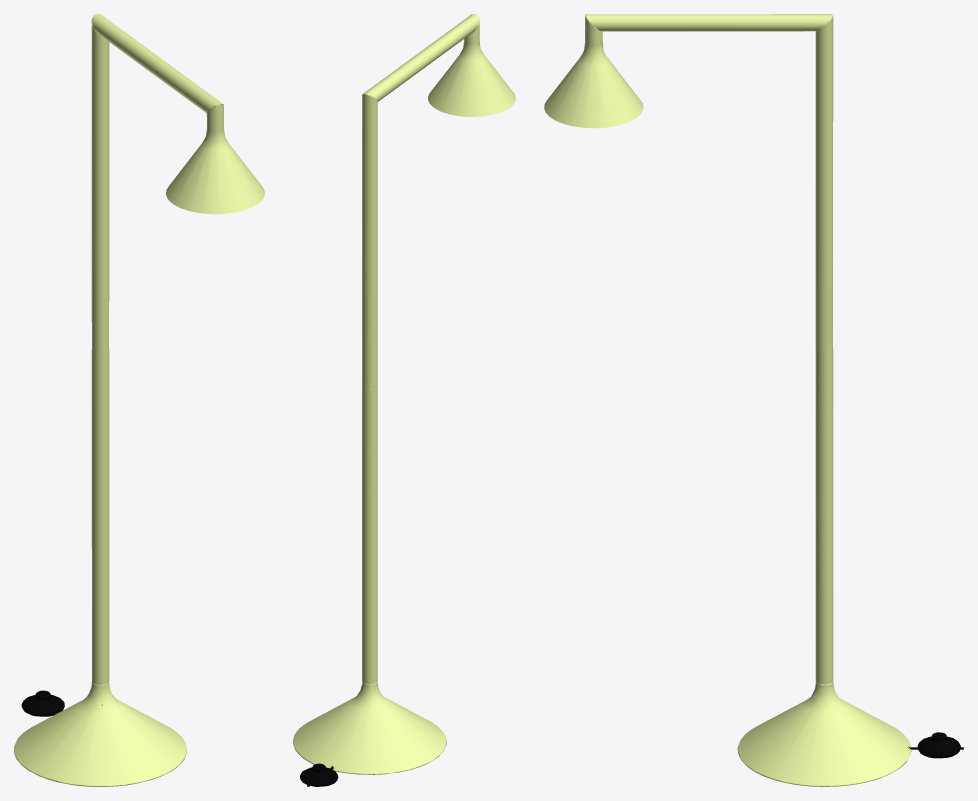
The model's file is ikea_ps_2026_lampa_podogowa_80608532.glb.
3 views of the same model, side by side, from view 1: azimuth 30°, elevation 25°; view 2: azimuth 150°, elevation 25°; view 3: azimuth 270°, elevation 25° (orthographic). The views are drawn at different scales.
Visible parts, largest first — view 1: ikea_ps_2026_lampa_podogowa_80608532; view 2: ikea_ps_2026_lampa_podogowa_80608532; view 3: ikea_ps_2026_lampa_podogowa_80608532.
Part boxes in pixels (x1,y1,x2,y2): ikea_ps_2026_lampa_podogowa_80608532: [14, 14, 264, 786]; ikea_ps_2026_lampa_podogowa_80608532: [293, 14, 515, 786]; ikea_ps_2026_lampa_podogowa_80608532: [544, 14, 963, 786].
Bounding box in the file's own units: 0.2799 × 1.31 × 0.6768.
1 material, 1 textured.
